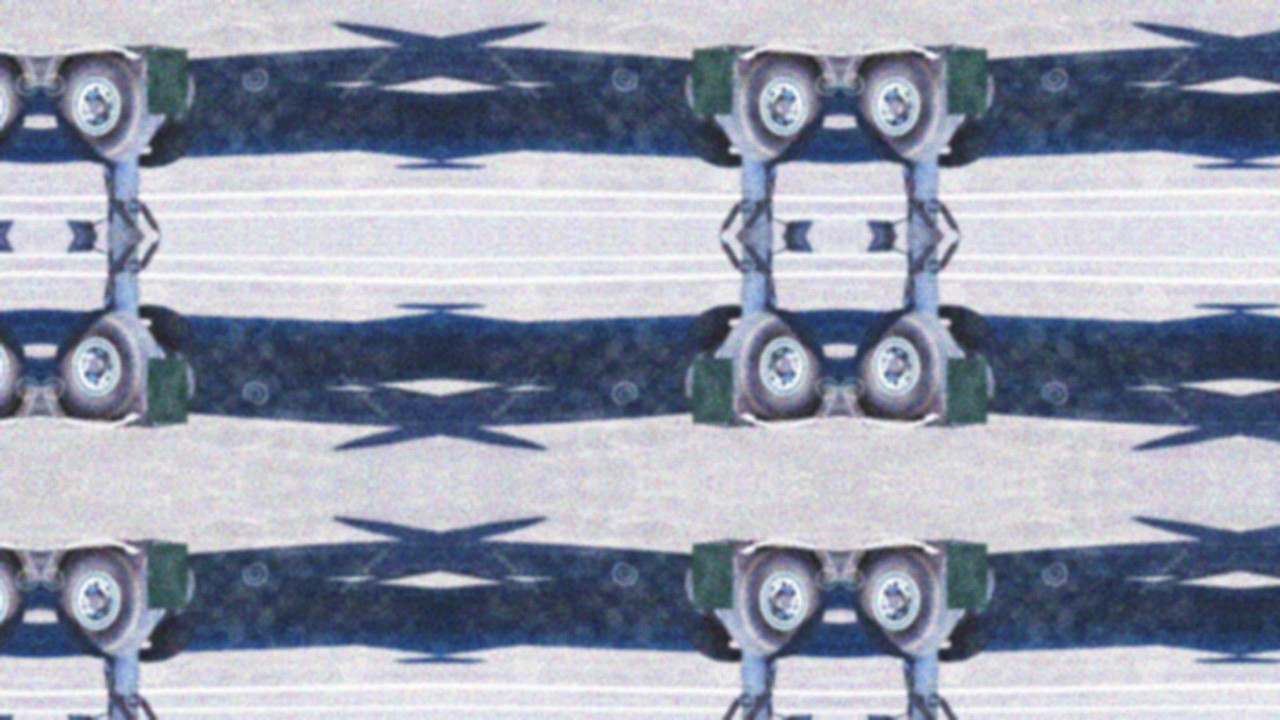chock: (125, 389, 187, 430), (693, 389, 755, 430), (925, 389, 987, 430), (125, 43, 187, 83), (693, 43, 755, 83), (925, 43, 987, 83), (125, 538, 187, 578), (693, 538, 755, 578), (925, 538, 987, 578), (12, 50, 40, 88), (40, 50, 68, 88), (812, 50, 840, 88), (840, 50, 868, 88), (12, 384, 40, 422), (40, 384, 68, 422), (812, 384, 840, 422), (840, 384, 868, 422), (12, 545, 40, 583), (40, 545, 68, 583), (812, 545, 840, 583), (840, 545, 868, 583)
wheel: (51, 51, 162, 165), (718, 51, 829, 165), (851, 51, 962, 165), (51, 546, 162, 660), (718, 546, 829, 660), (851, 546, 962, 660), (51, 308, 162, 421), (718, 308, 829, 421), (851, 308, 962, 421), (132, 58, 205, 169), (675, 58, 748, 169), (932, 58, 1005, 169), (132, 304, 205, 415), (675, 304, 748, 415), (932, 304, 1005, 415), (132, 553, 205, 664), (675, 553, 748, 664), (932, 553, 1005, 664), (0, 51, 29, 165), (0, 546, 29, 660), (0, 308, 29, 421)
